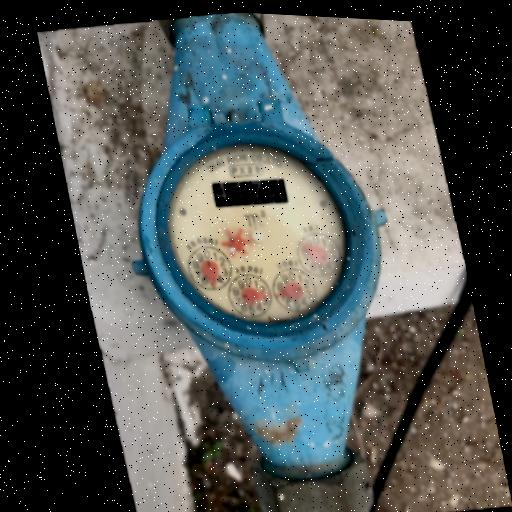1: (230, 180, 253, 207)
4: (211, 181, 234, 209)
7: (247, 179, 270, 206)
9: (265, 177, 288, 205)
border_water_meter_number: (210, 174, 290, 213)
